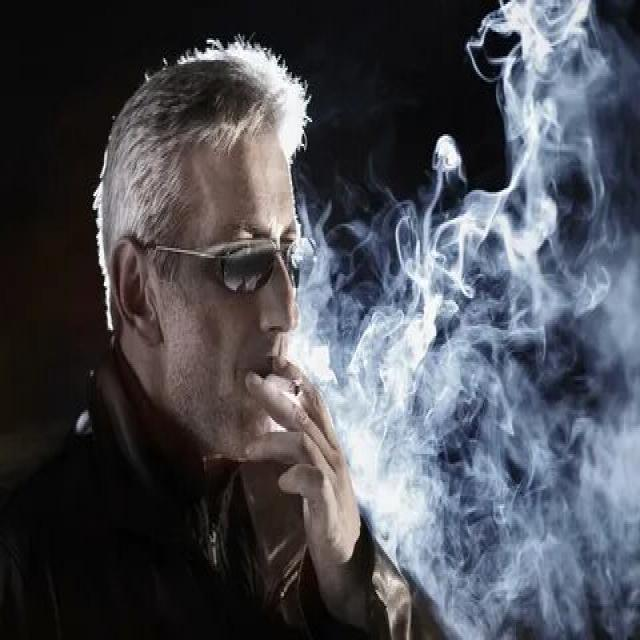cigarette: (262, 368, 302, 400)
